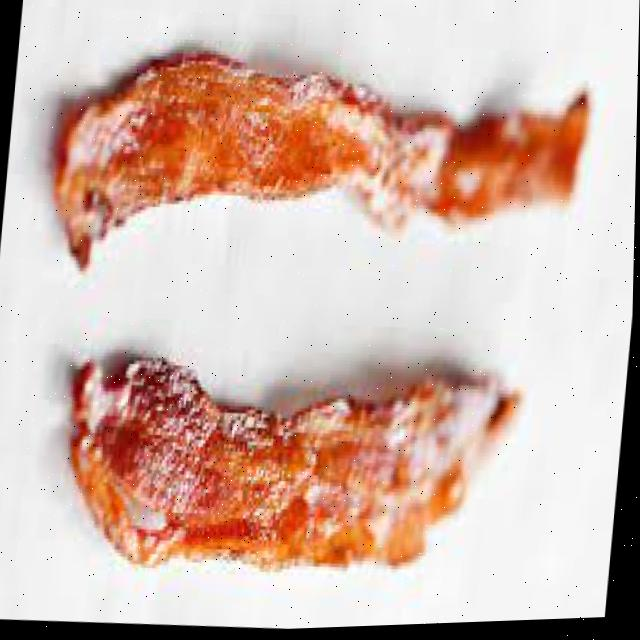Bacon: (55, 56, 589, 270), (76, 359, 520, 570)
